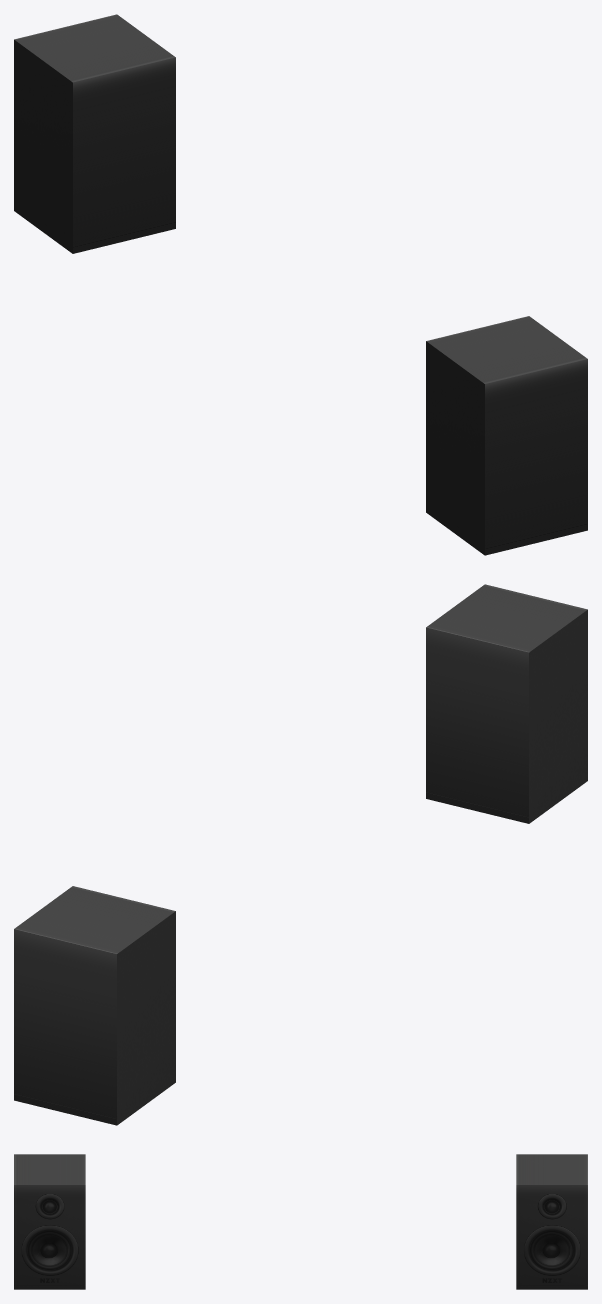
Rendered from Altavoz.glb.
3 renders of one model, top to bottom at view 1: azimuth 30°, elevation 25°; view 2: azimuth 150°, elevation 25°; view 3: azimuth 270°, elevation 25°, orthographic. The views are drawn at different scales.
Visible parts, largest first — view 1: Escritorio_Altavoz; view 2: Escritorio_Altavoz; view 3: Escritorio_Altavoz.
Part boxes in pixels (<box>): Escritorio_Altavoz: <box>14,14,587,555</box>; Escritorio_Altavoz: <box>14,584,587,1125</box>; Escritorio_Altavoz: <box>14,1154,587,1289</box>.
Size of the model in its own units: 0.1407 by 0.2237 by 1.11.
Materials: 1 (1 with a texture image).
